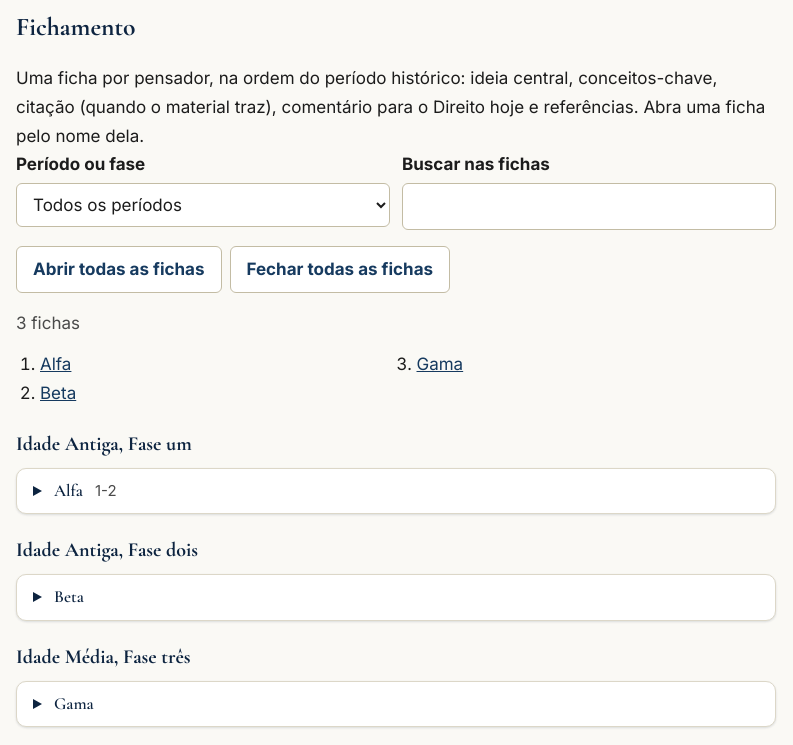
Test: FichamentoVisor: filtro › filtra por período e anuncia o total em região de status
This screenshot has width=793, height=745.
Select "Toda a Idade Antiga" in the dropdown with class "fichamento__periodo" at (203, 205), box [16,183,390,227]
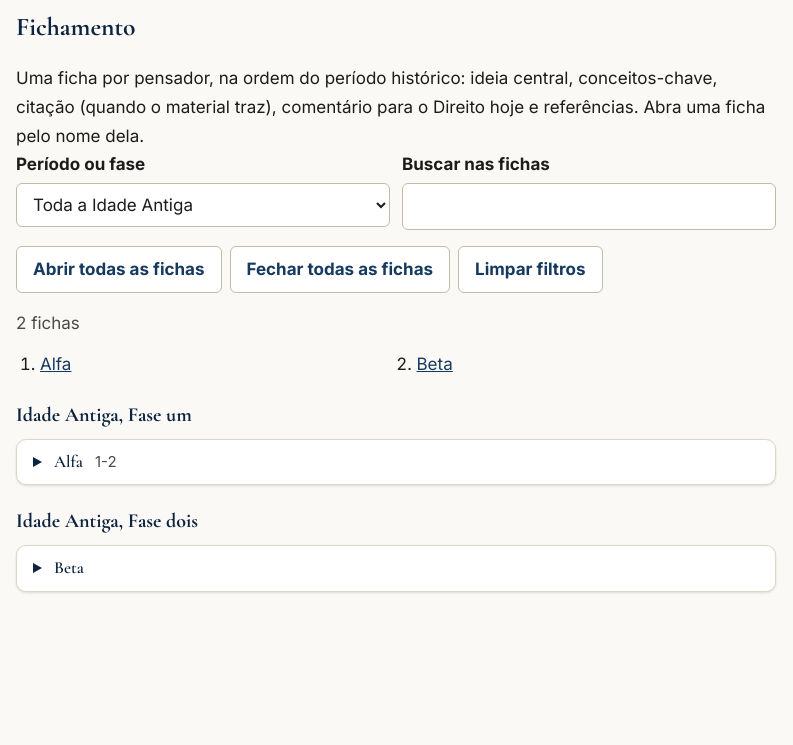
Expected: the number of elements with class "ficha" is 2, [16,439,776,485]; [16,545,776,592]
Now the message "2 fichas" is shown, box [16,313,80,333]
